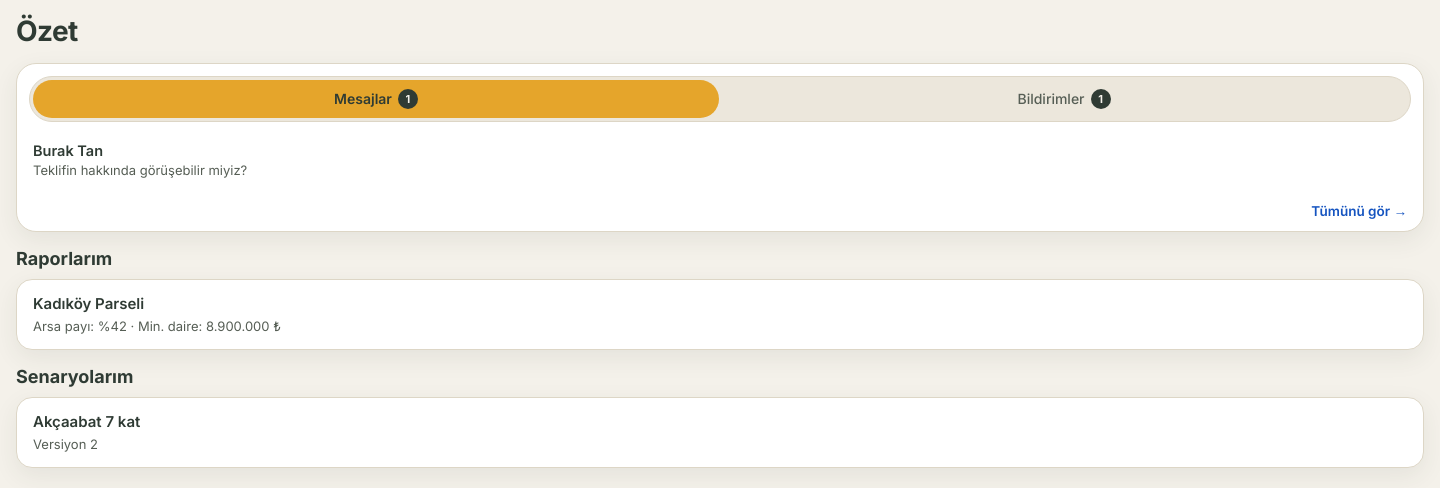
Scenario: HomeMobile (Özet) › Bildirimler sekmesi bildirimi gosterir ve /notifications a gider
This screenshot has width=1440, height=488.
Expected: the text "Burak Tan" is shown, [33,142,103,159]
Step 1. Click the tab "Bildirimler 1" → {"x": 1064, "y": 99}, box [721,80,1407,118]
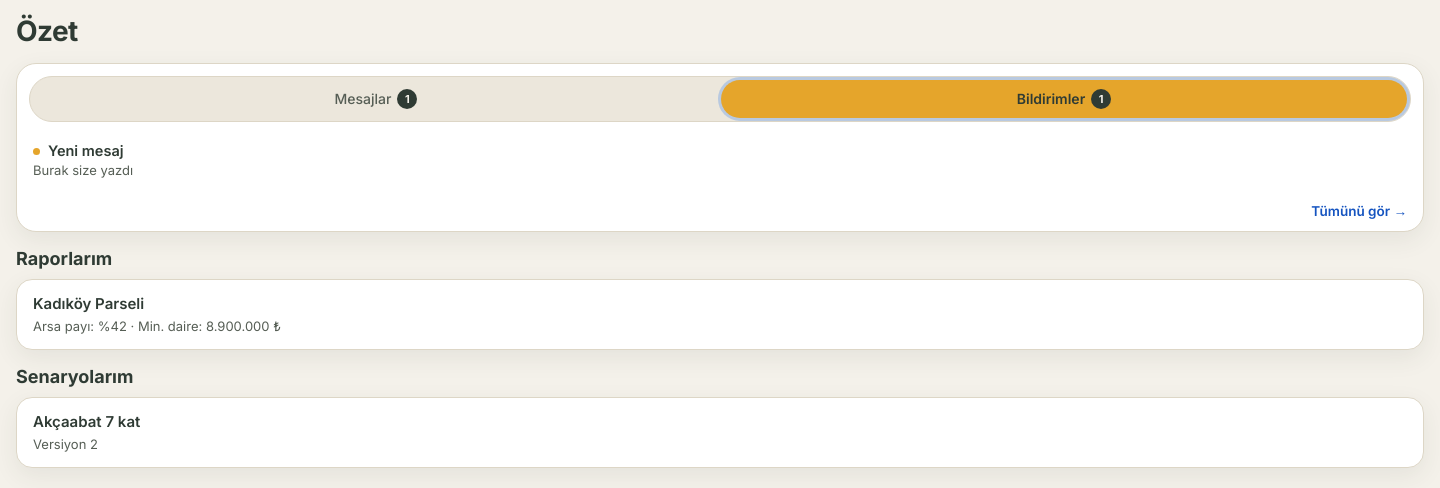
Expected: the text "Yeni mesaj" is shown, [48,142,124,159]
